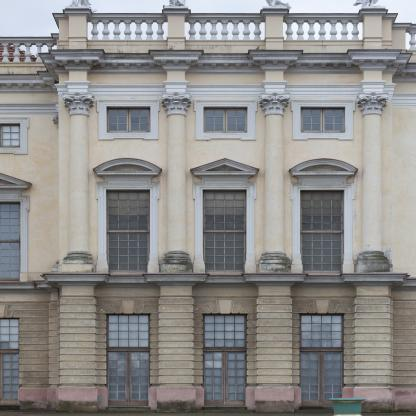Building Outline: (0, 8, 416, 413)
Cornice: (93, 157, 161, 175), (290, 158, 358, 175), (191, 158, 259, 175)
Door: (300, 348, 344, 406), (203, 348, 247, 406), (107, 348, 150, 406)
Facade: (60, 68, 391, 413)
Floor: (59, 150, 391, 289)
Floor Slab: (59, 283, 391, 289), (59, 144, 391, 150), (59, 69, 391, 75)
Ground Floor: (59, 288, 390, 416)
Molding: (61, 59, 416, 77)
Pillar: (356, 92, 390, 272), (62, 92, 95, 273), (160, 92, 193, 273), (258, 92, 291, 272), (154, 281, 198, 413), (352, 281, 395, 413), (56, 281, 99, 413), (253, 281, 296, 413)
Top Floor: (59, 74, 391, 149)
Window: (300, 190, 345, 273), (106, 189, 150, 272), (203, 189, 247, 272), (300, 313, 344, 348), (203, 313, 247, 348), (107, 313, 150, 348), (301, 106, 345, 133), (204, 106, 247, 133), (107, 106, 150, 132)
dont: (328, 398, 366, 416)
